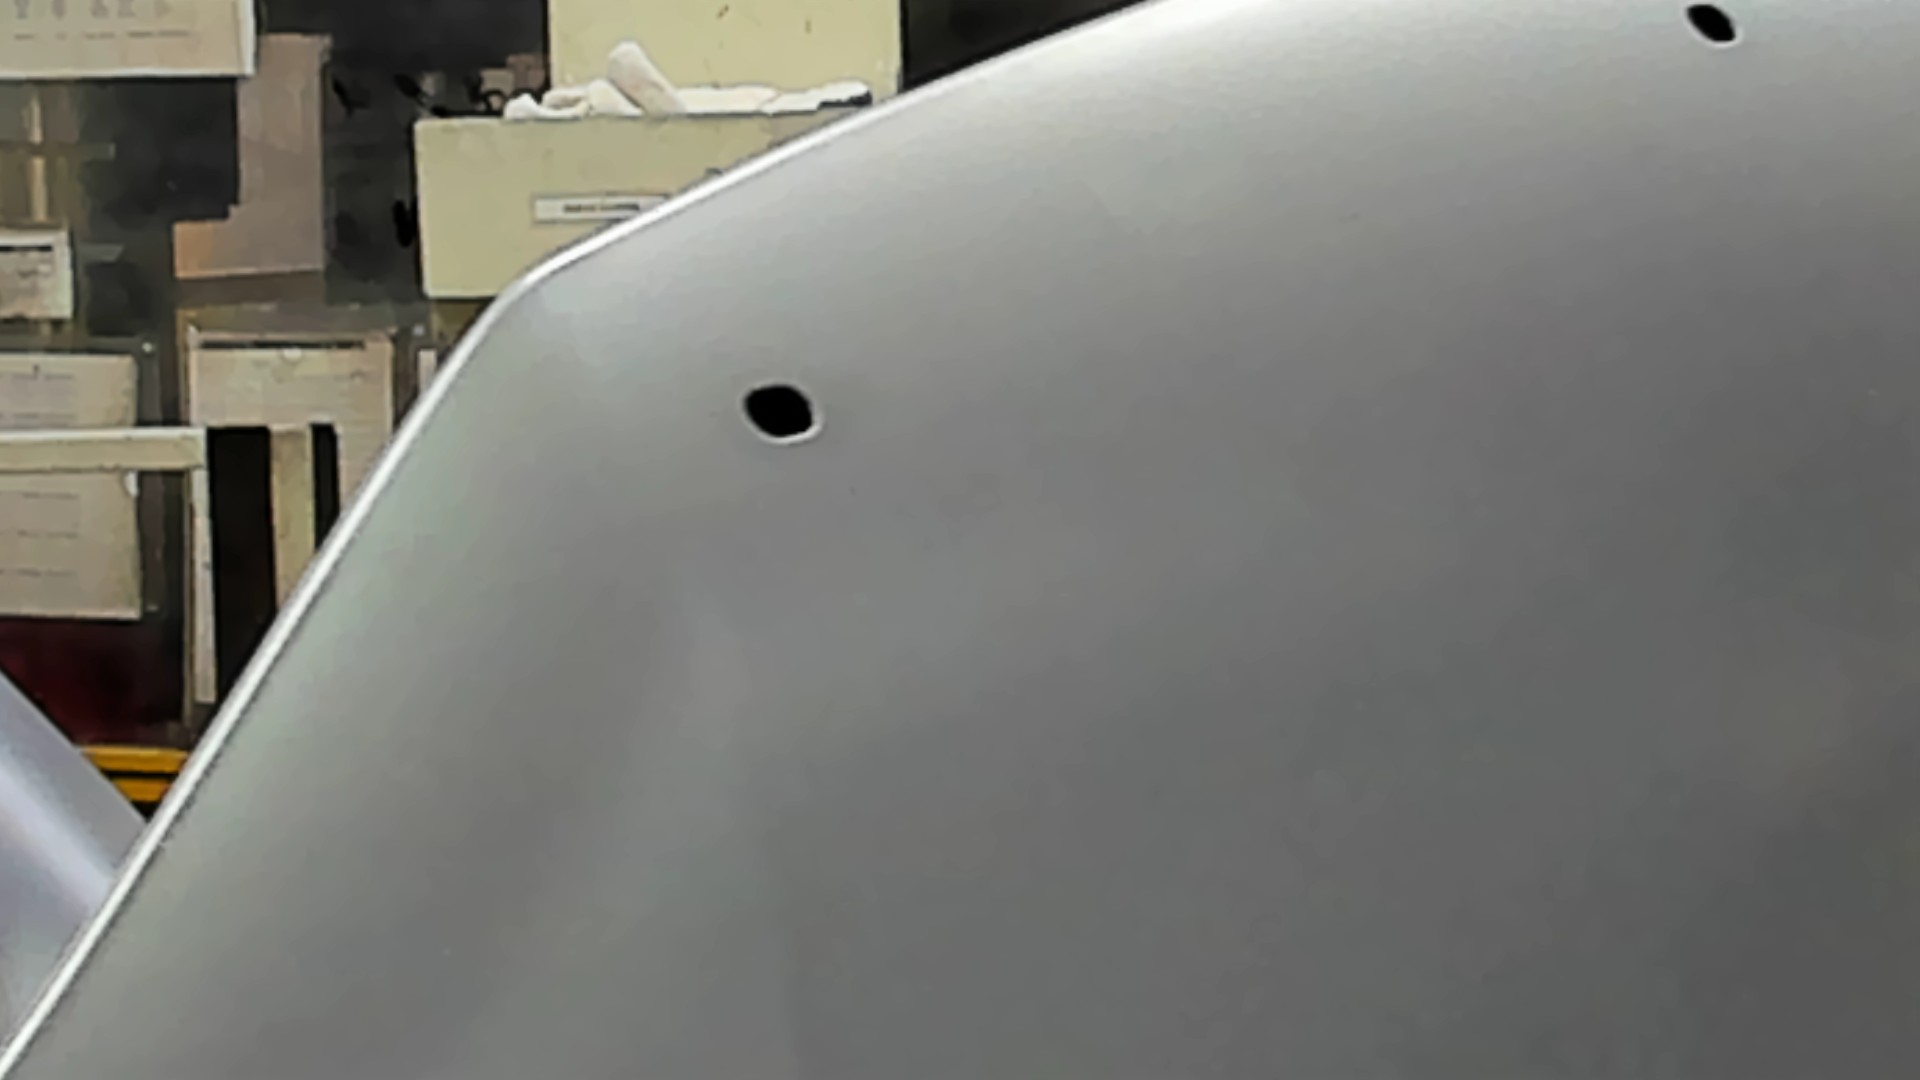amorfo: (738, 377, 819, 442), (1675, 1, 1754, 50)
